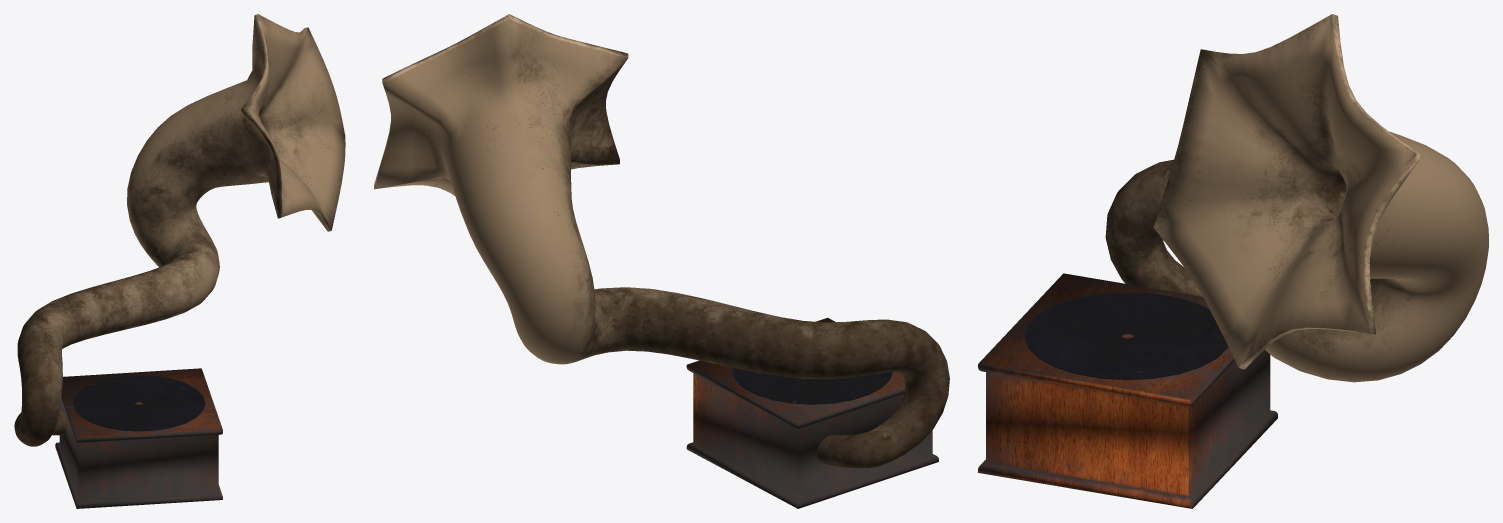
The model's file is Megafono.glb.
The picture shows the model from 3 angles, left to right: view 1: azimuth 30°, elevation 25°; view 2: azimuth 150°, elevation 25°; view 3: azimuth 270°, elevation 25°; orthographic projection. The views are drawn at different scales.
Visible parts, largest first — view 1: Megafono base; view 2: Megafono base; view 3: Megafono base.
Boxes of the visible parts, <box> form: Megafono base: <box>14,14,345,508</box>; Megafono base: <box>374,14,949,508</box>; Megafono base: <box>978,14,1488,508</box>.
Size of the model in its own units: 0.6564 by 0.5799 by 0.4692.
1 material, 1 textured.
